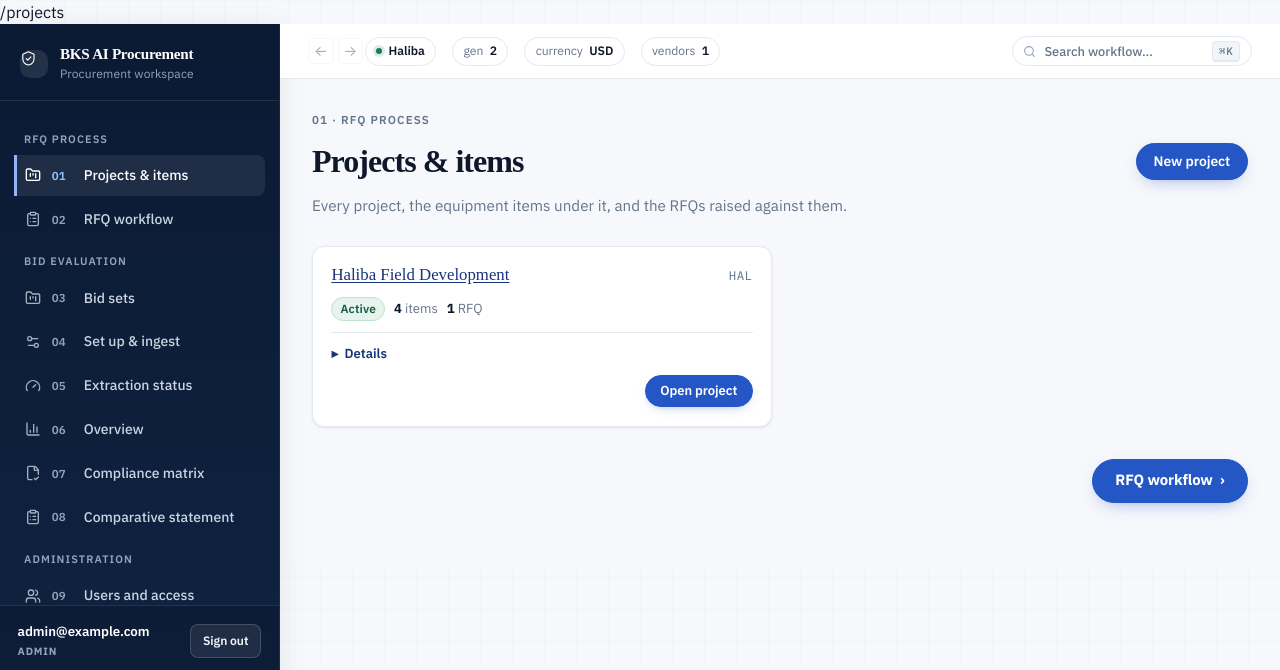
Test: a rail click returns a section to its top level › clicking 01 while inside an item returns to the project roster
This screenshot has width=1280, height=670.
Click the button "Haliba Field Development" at x=420, y=275, box 331,264 -> 509,286
(page scrolled)
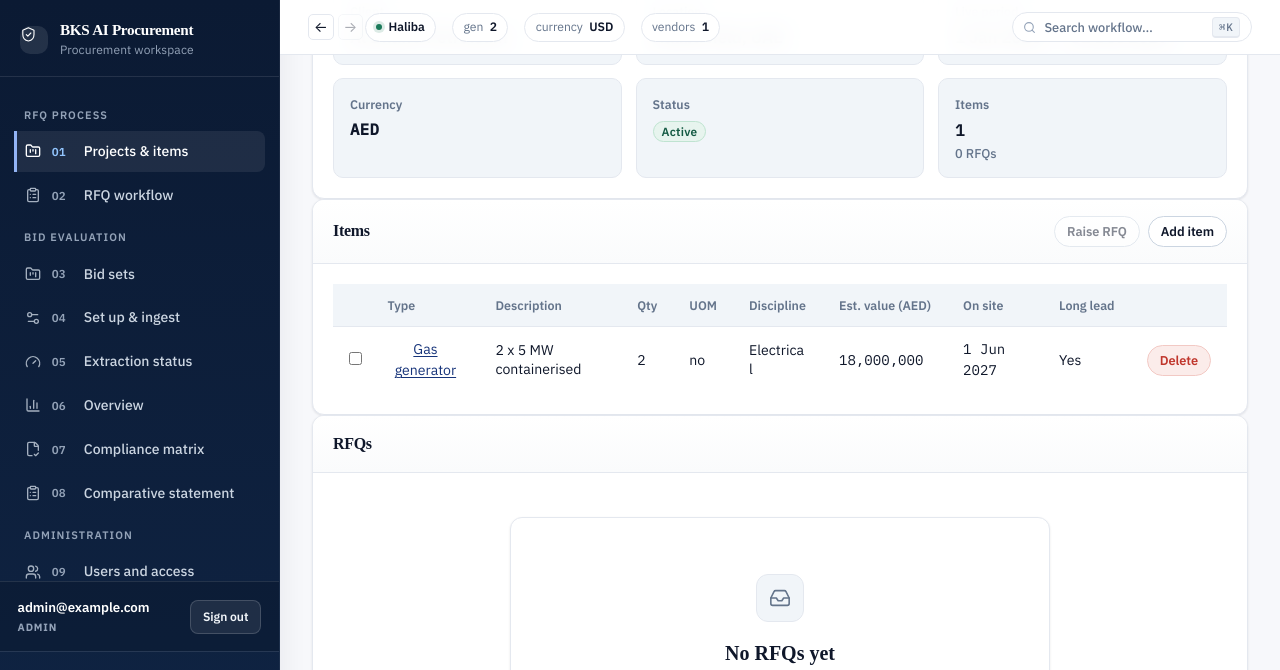
Click the button "Gas generator" at x=425, y=360, box 387,339 -> 464,382
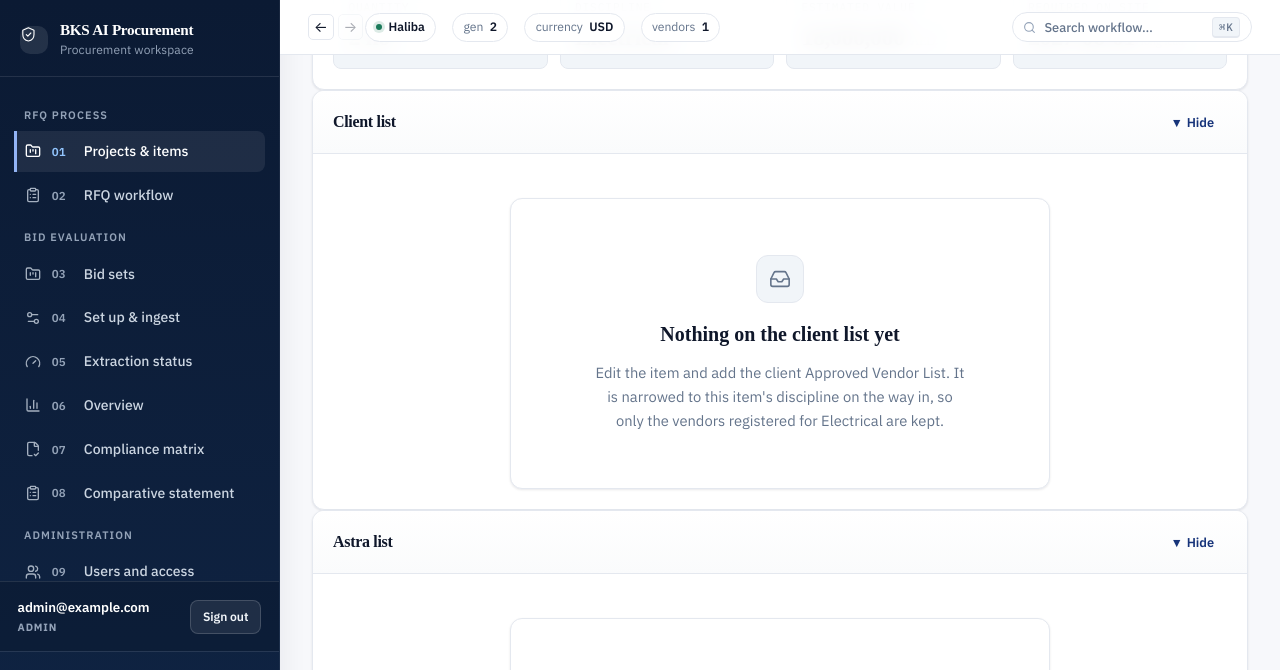
Click the button "01 Projects & items" at x=140, y=152, box 14,131 -> 265,172
(page scrolled)
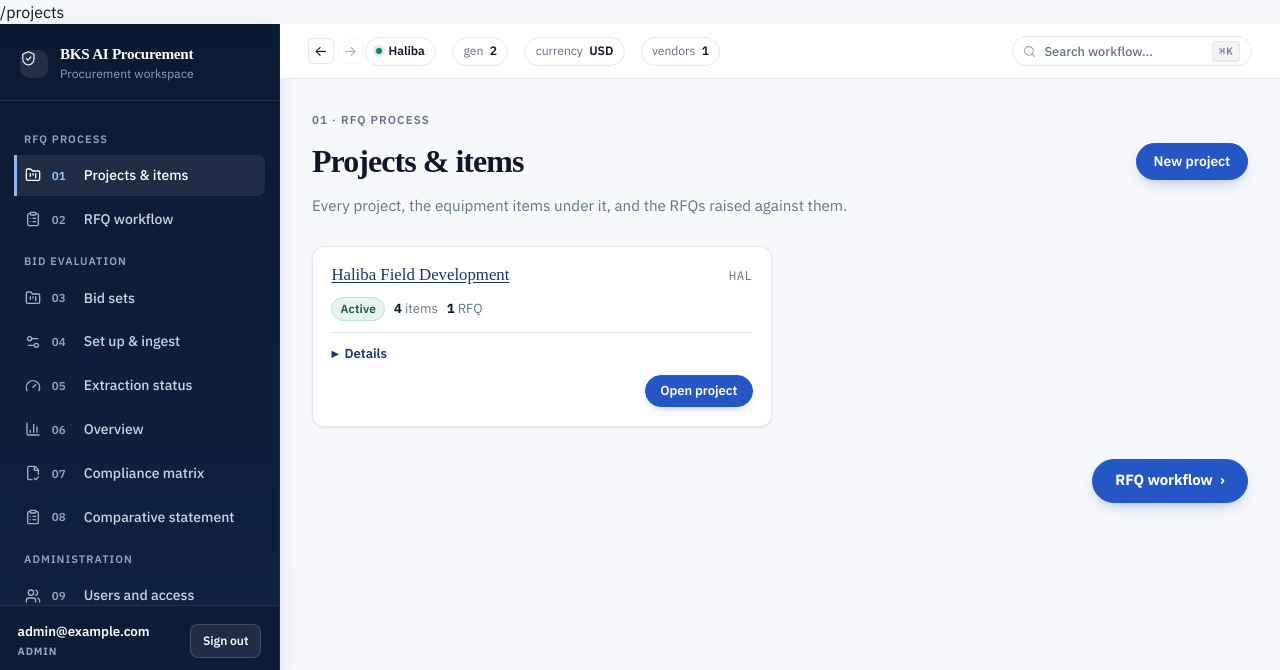
Check: the text with test id "location" reads "/projects", box 0,2 -> 64,22
